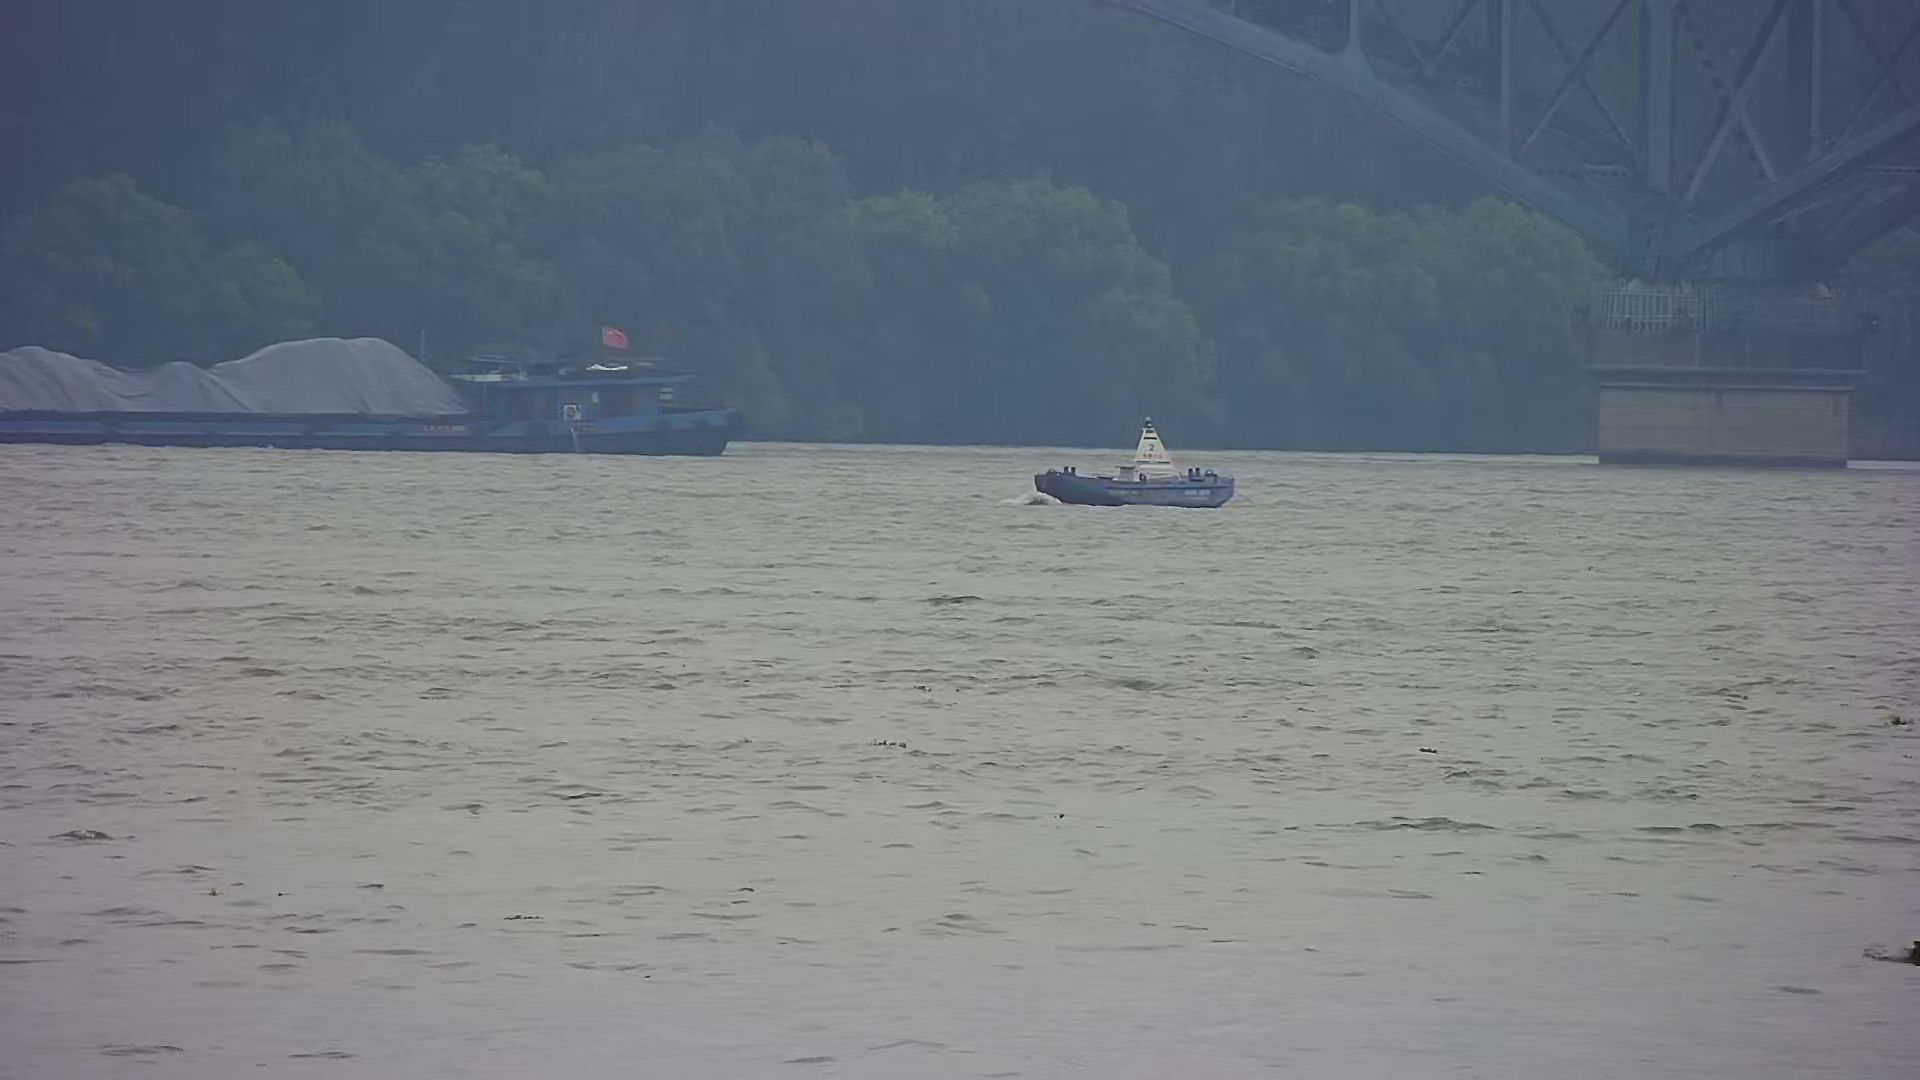boat: (1027, 407, 1254, 518)
bridge: (1127, 1, 1919, 468)
ship: (1, 299, 764, 468)
